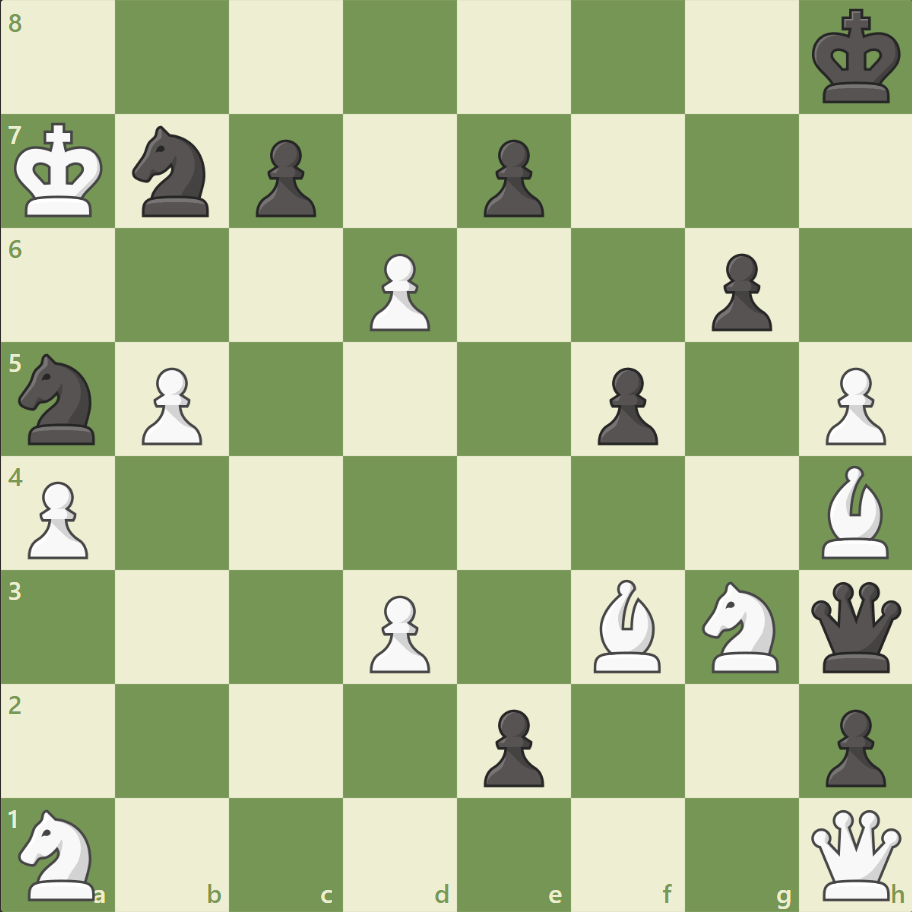B: (812, 460, 896, 563), (585, 574, 669, 676)
K: (11, 117, 111, 225)
N: (692, 575, 789, 677), (11, 802, 108, 904)
P: (133, 359, 208, 450), (20, 473, 95, 564), (361, 246, 435, 337), (815, 359, 889, 450), (361, 586, 435, 677)
Q: (805, 804, 904, 903)
k: (806, 4, 906, 112)
n: (124, 121, 222, 223), (11, 348, 108, 450)
p: (247, 132, 322, 223), (474, 132, 549, 223), (701, 246, 776, 337), (474, 700, 549, 791), (588, 359, 662, 450), (815, 700, 889, 791)
q: (805, 576, 904, 676)
